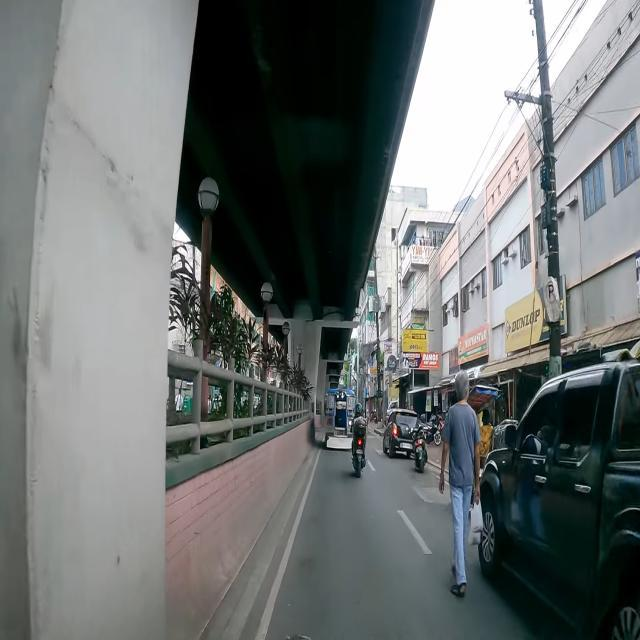car: (478, 358, 640, 639), (382, 410, 418, 458)
jeepney: (322, 387, 356, 450)
motorcycle: (351, 404, 366, 478), (409, 420, 427, 472), (419, 414, 442, 445)
tricycle: (468, 384, 517, 468)
